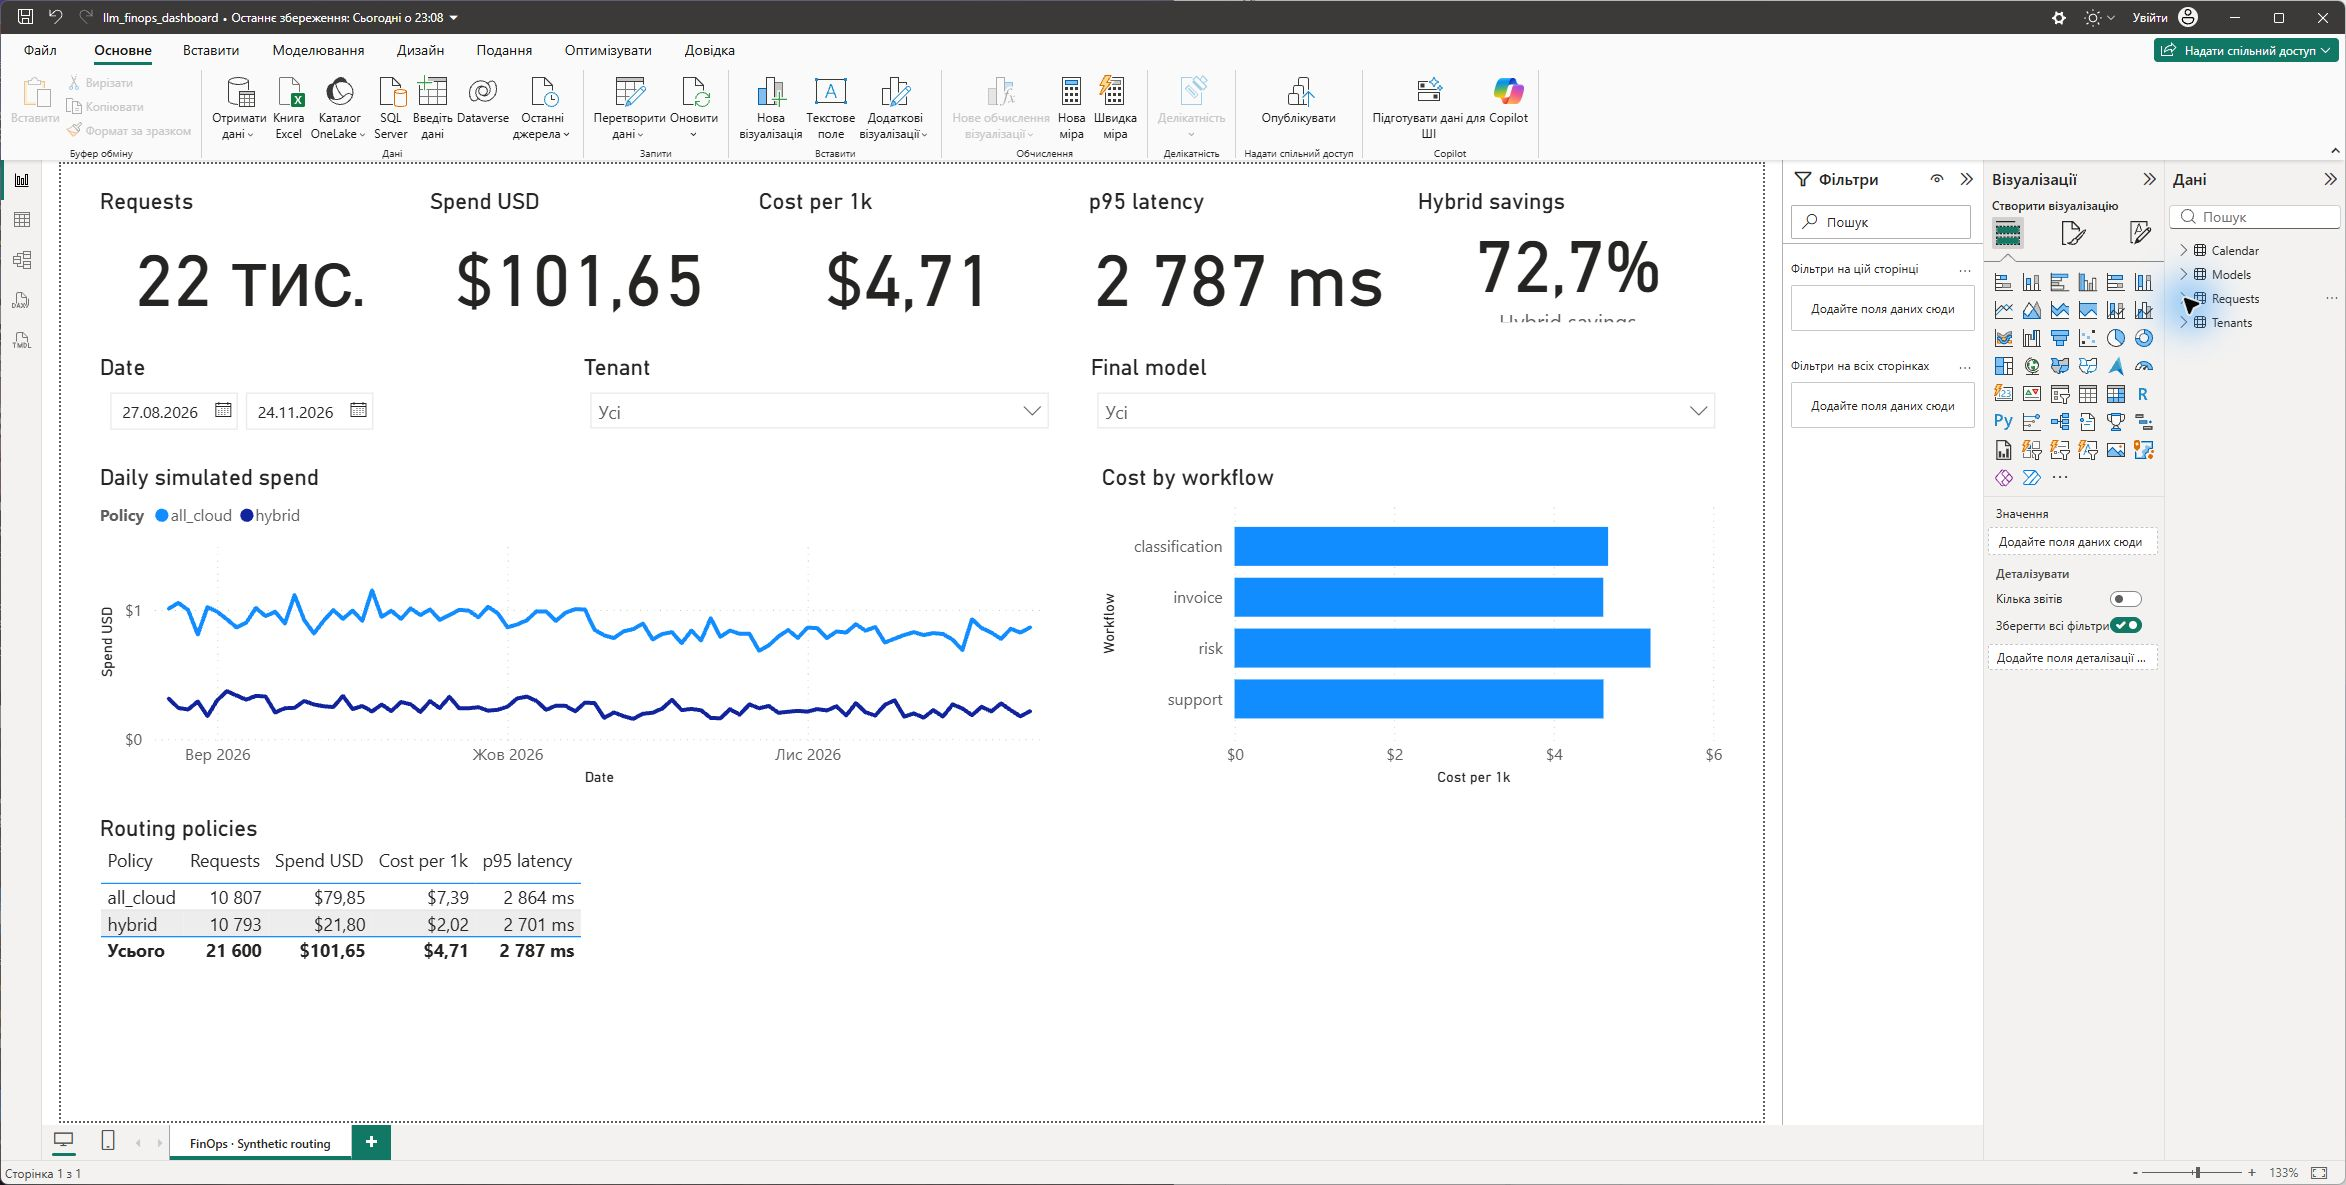

Layout of this report page (visuals, bound fields, positions):
{"tool":"powerbi","page":{"name":"FinOps · Synthetic routing","canvas":[1280,720],"ordinal":0},"visuals":[{"type":"card","title":"Requests","fields":{"Values":["Requests.Requests"]},"box":[24,18,236,106],"z":0},{"type":"card","title":"Spend USD","fields":{"Values":["Requests.Spend USD"]},"box":[272,18,236,106],"z":1000},{"type":"card","title":"Cost per 1k","fields":{"Values":["Requests.Cost per 1k"]},"box":[520,18,236,106],"z":2000},{"type":"card","title":"p95 latency","fields":{"Values":["Requests.p95 latency"]},"box":[768,18,236,106],"z":3000},{"type":"card","title":"Hybrid savings","fields":{"Values":["Requests.Hybrid savings"]},"box":[1016,18,236,106],"z":4000},{"type":"slicer","title":"Date","fields":{"Values":["Calendar.Date"]},"box":[24,143,347,64],"z":5000},{"type":"slicer","title":"Tenant","fields":{"Values":["Tenants.Tenant"]},"box":[388,143,365,64],"z":6000},{"type":"slicer","title":"Final model","fields":{"Values":["Models.Model"]},"box":[770,143,485,64],"z":7000},{"type":"lineChart","title":"Daily simulated spend","fields":{"Category":["Calendar.Date"],"Series":["Requests.Policy"],"Y":["Requests.Spend USD"]},"box":[24,226,735,246],"z":8000},{"type":"barChart","title":"Cost by workflow","fields":{"Category":["Requests.Workflow"],"Y":["Requests.Cost per 1k"]},"box":[778,226,477,246],"z":9000},{"type":"tableEx","title":"Routing policies","fields":{"Values":["Requests.Policy","Requests.Requests","Requests.Spend USD","Requests.Cost per 1k","Requests.p95 latency"]},"box":[24,490,1231,194],"z":10000}]}

Visuals, with their boxes on the page's 1280x720 design canvas (x1, y1, x2, y2). These are canvas units, not pixel positions in the 2346x1185 screenshot, which may show the page scaled, cropped or inside an application window:
"Requests" card: 24 18 260 124
"Spend USD" card: 272 18 508 124
"Cost per 1k" card: 520 18 756 124
"p95 latency" card: 768 18 1004 124
"Hybrid savings" card: 1016 18 1252 124
"Date" slicer: 24 143 371 207
"Tenant" slicer: 388 143 753 207
"Final model" slicer: 770 143 1255 207
"Daily simulated spend" lineChart: 24 226 759 472
"Cost by workflow" barChart: 778 226 1255 472
"Routing policies" tableEx: 24 490 1255 684
